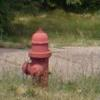Hydrant: (17, 17, 56, 90)
